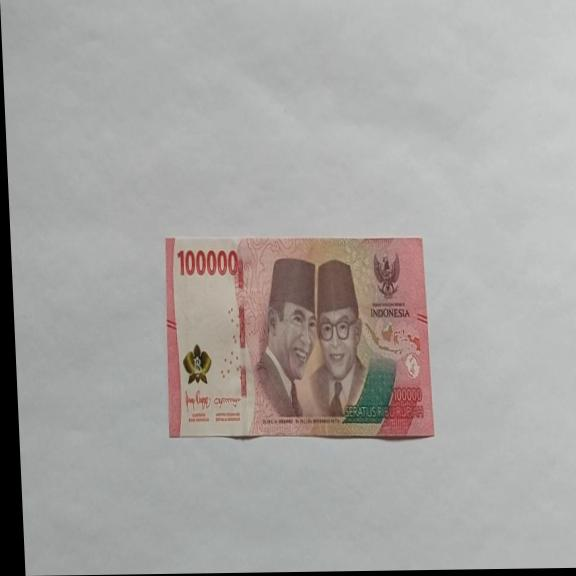Kertas: (160, 231, 435, 442), (176, 246, 239, 278)
